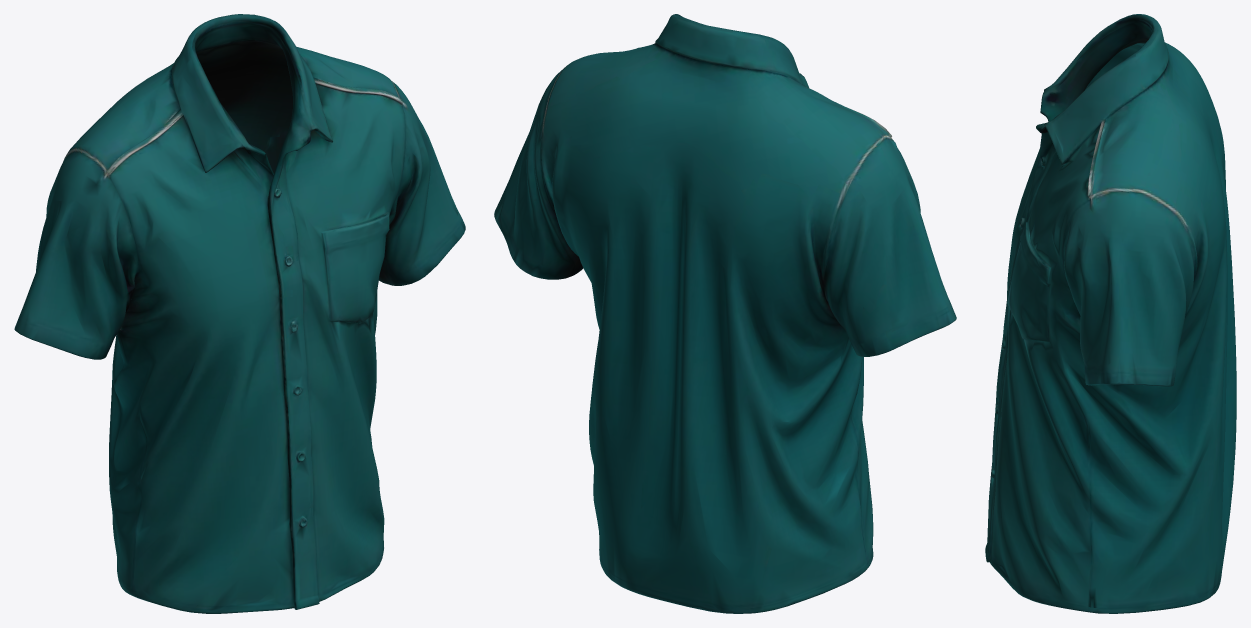
The model's file is fardamento.glb.
3 renders of one model, left to right at view 1: azimuth 30°, elevation 25°; view 2: azimuth 150°, elevation 25°; view 3: azimuth 270°, elevation 25°, orthographic. The views are drawn at different scales.
Parts seen in each view (by area): view 1: node_0; view 2: node_0; view 3: node_0.
Boxes of the visible parts, x1,y1,x2,y2 form: node_0: (14, 14, 465, 613); node_0: (494, 14, 956, 613); node_0: (985, 14, 1236, 613).
Size of the model in its own units: 0.966 by 1.12 by 0.4711.
1 material, 1 textured.
